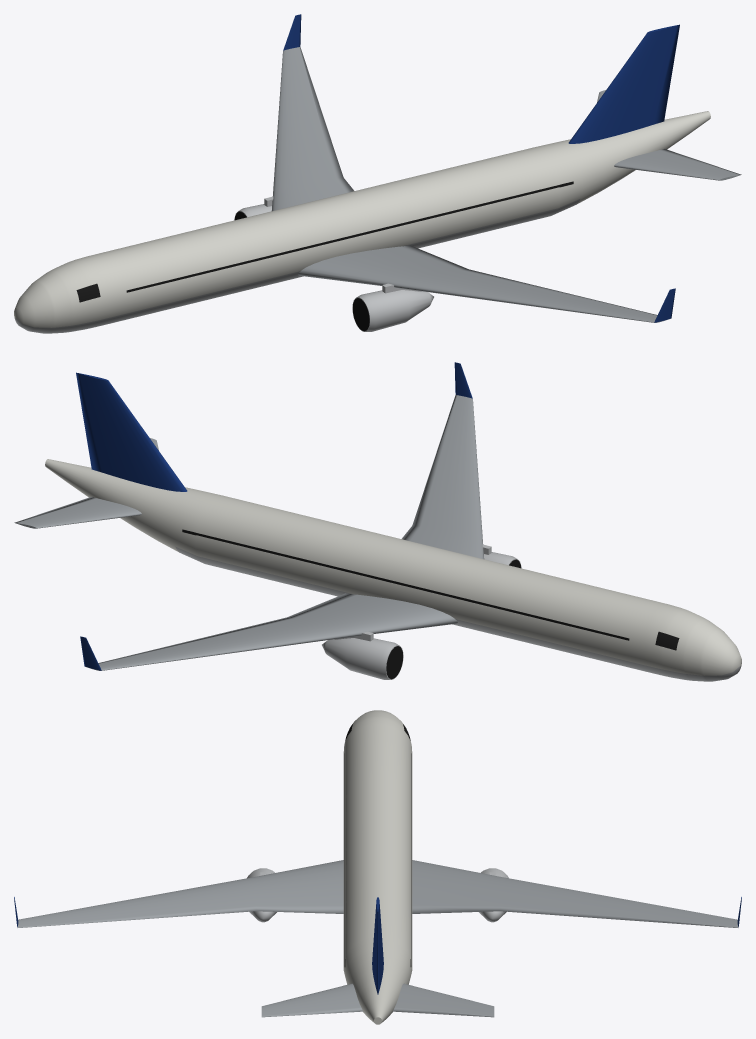
3 renders of one model, top to bottom at view 1: azimuth 30°, elevation 25°; view 2: azimuth 150°, elevation 25°; view 3: azimuth 270°, elevation 25°, orthographic. The views are drawn at different scales.
Parts seen in each view (by area): view 1: a333; view 2: a333; view 3: a333.
Part boxes in pixels (x1,y1,x2,y2): a333: [14, 14, 741, 333]; a333: [14, 362, 741, 681]; a333: [14, 710, 741, 1024].
Size of the model in its own units: 63.69 by 15.11 by 59.69.
